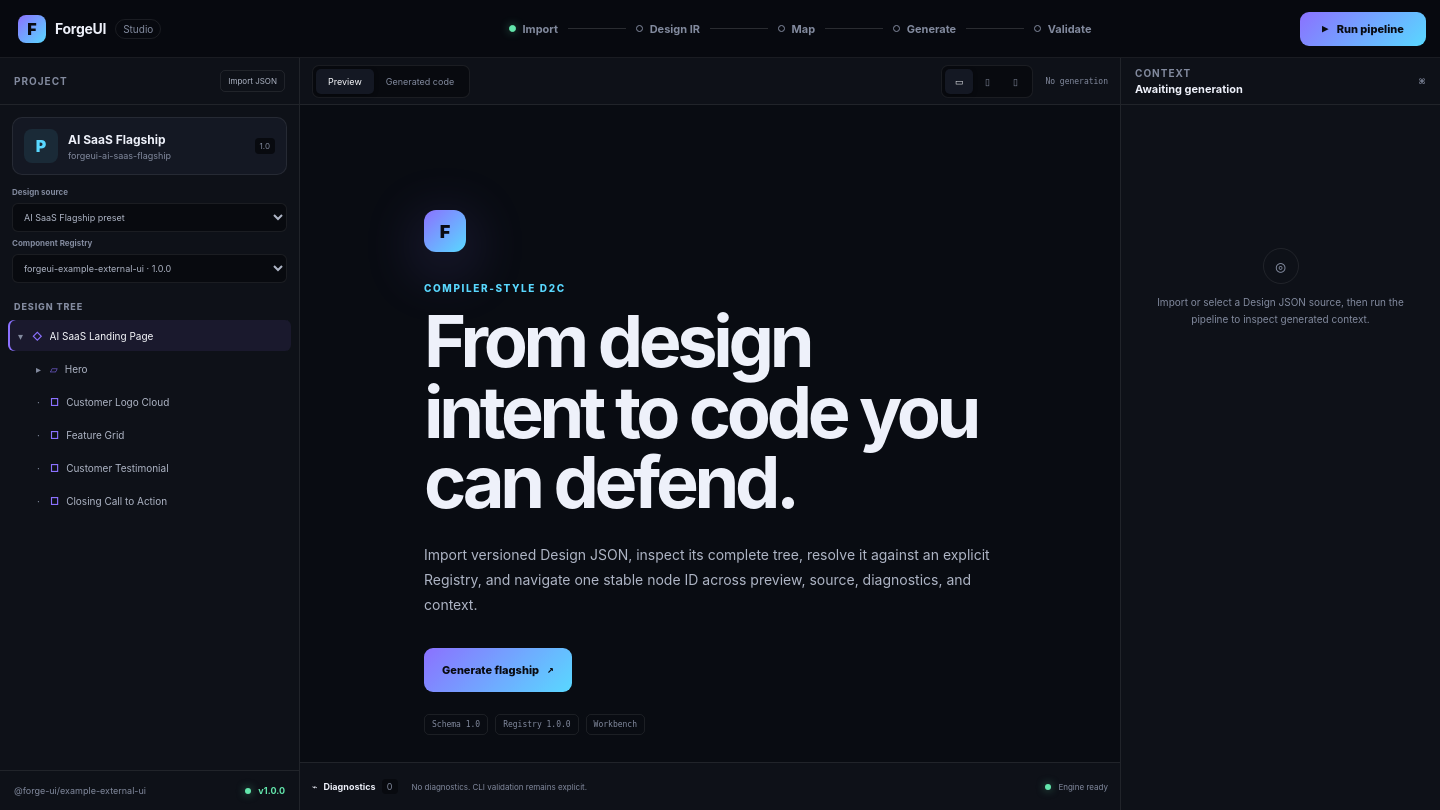
Test: ForgeUI Studio › UI-004 renders the Engine error without losing its diagnostic message
The image size is (1440, 810).
Step 1. Click the button "Generate flagship ↗" → point(498, 670), box [424,648,572,692]
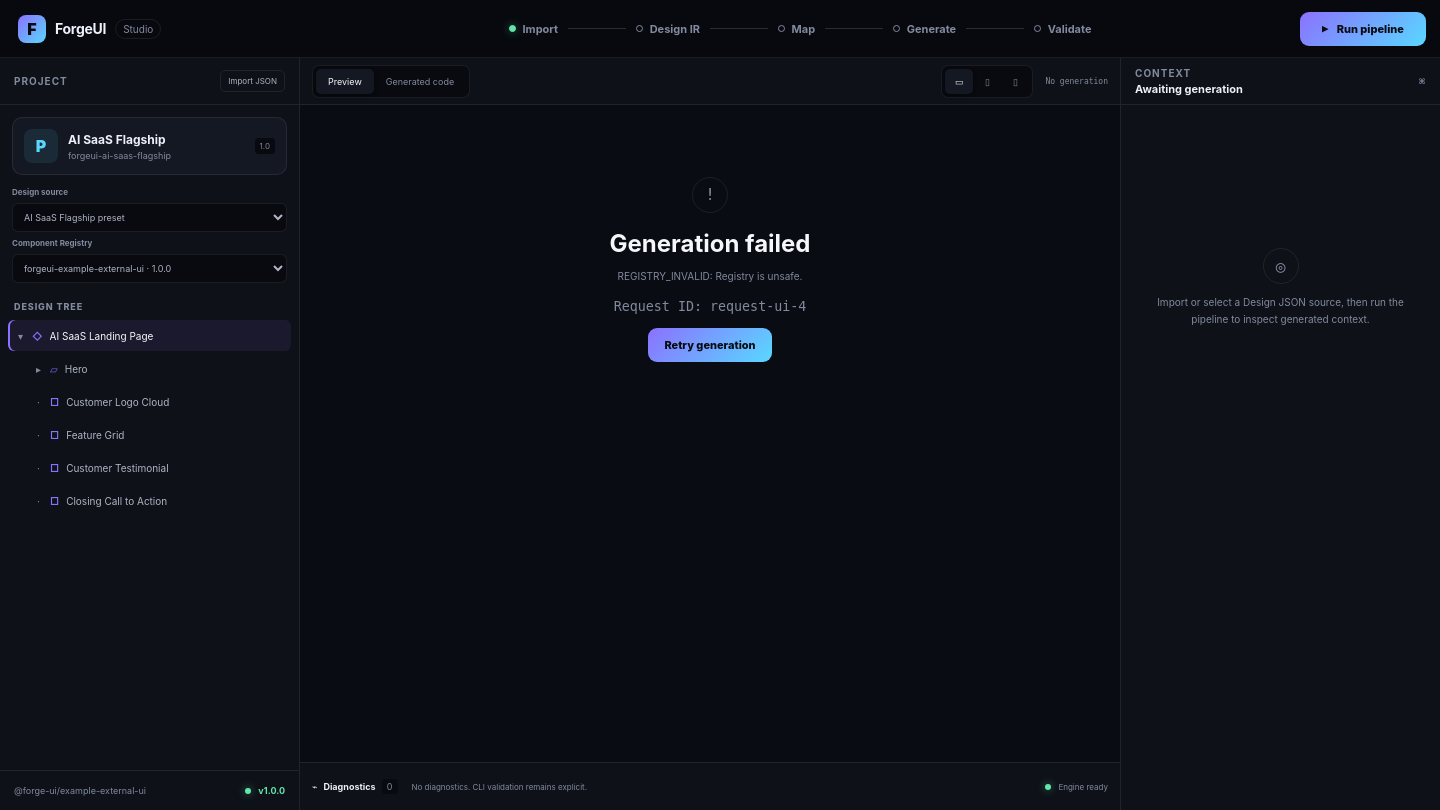
expect the heading "Generation failed" is shown: met, box [610,229,810,258]
expect the text "REGISTRY_INVALID: Registry is unsafe." is shown: met, box [618,268,802,285]
expect the text "Request ID: request-ui-4" is shown: met, box [614,299,806,314]
